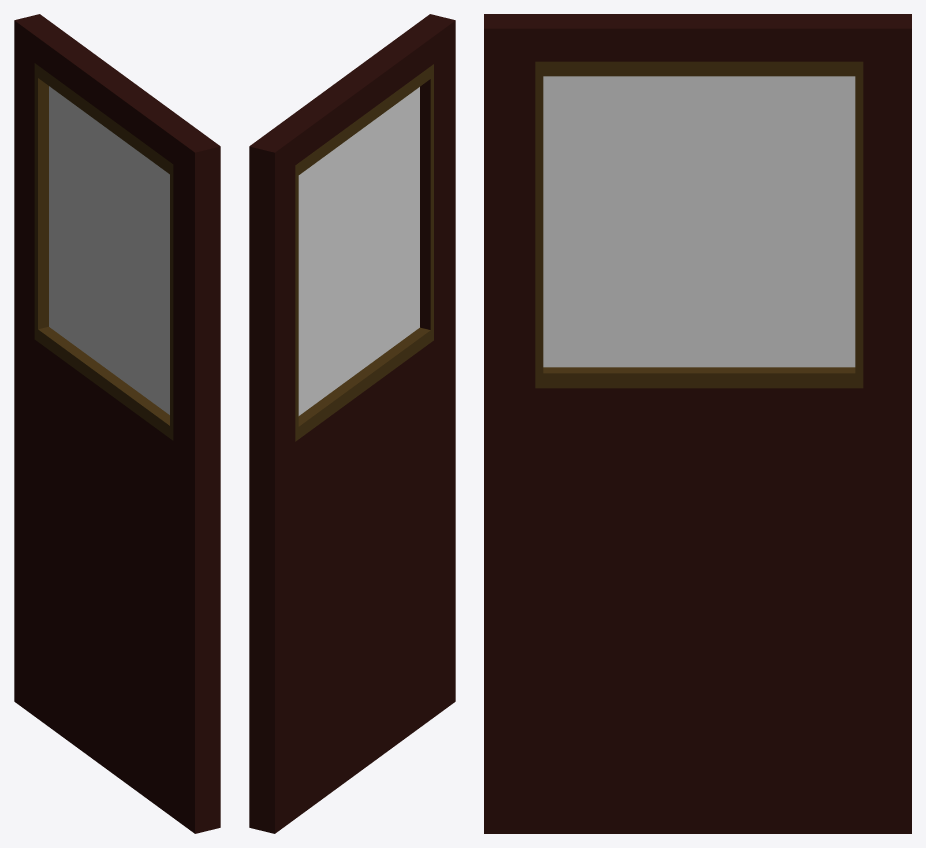
Rendered from Door.fbx.
The picture shows the model from 3 angles, left to right: view 1: azimuth 30°, elevation 25°; view 2: azimuth 150°, elevation 25°; view 3: azimuth 270°, elevation 25°; orthographic projection. The views are drawn at different scales.
Visible parts, largest first — view 1: Cube.011; view 2: Cube.011; view 3: Cube.011.
Boxes of the visible parts, left/top/right/bottom form: Cube.011: left=14, top=14, right=220, bottom=833; Cube.011: left=249, top=14, right=455, bottom=833; Cube.011: left=484, top=14, right=911, bottom=833.
Size of the model in its own units: 18.61 by 472 by 227.
